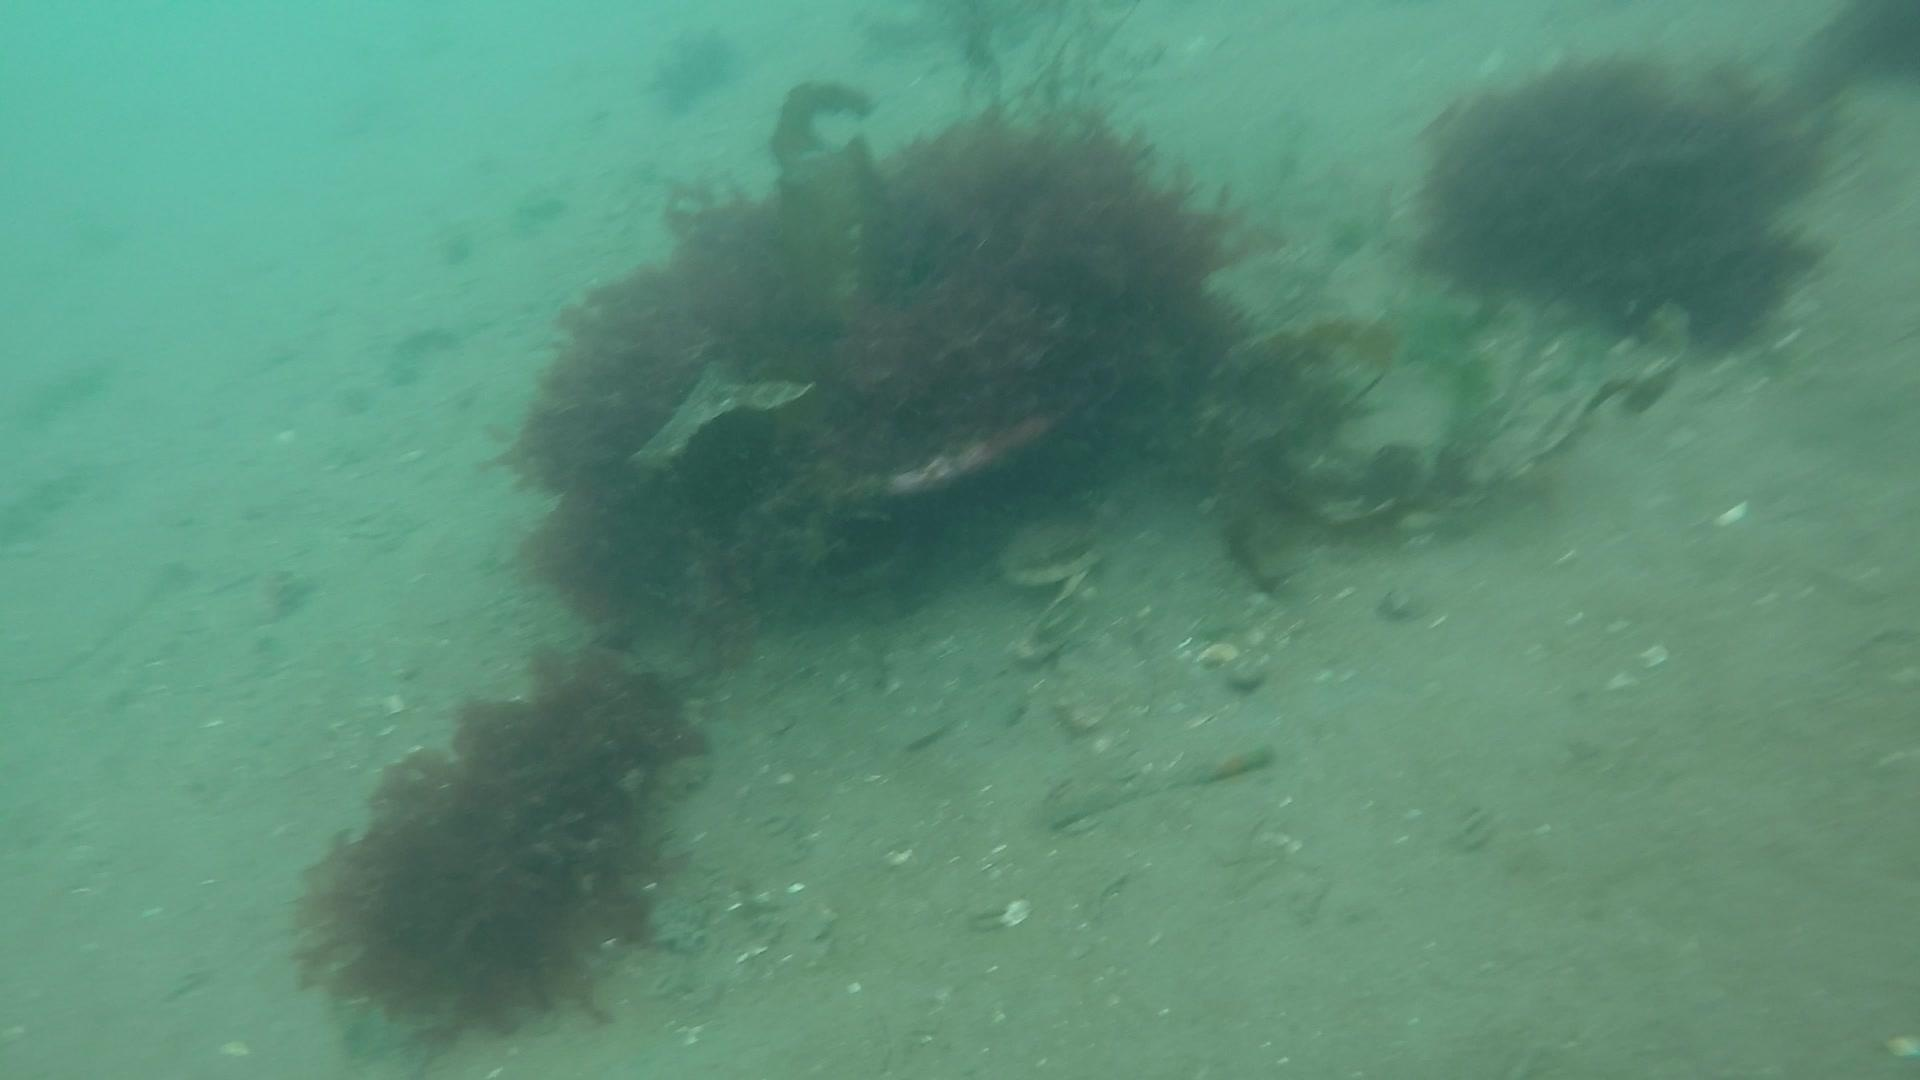scallop: (994, 509, 1106, 596), (1007, 574, 1100, 662)
